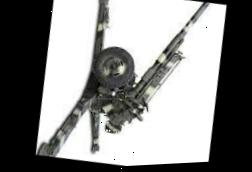sau: (26, 0, 235, 171)
